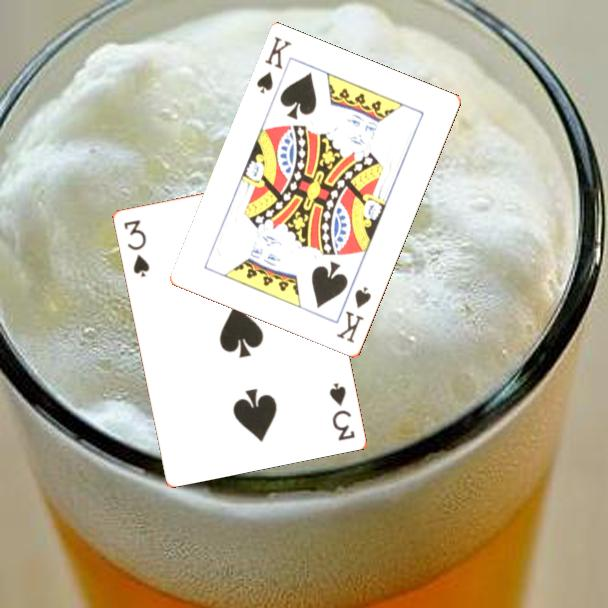s03: (325, 379, 357, 444), (120, 216, 152, 280)
s13: (253, 33, 295, 97), (333, 283, 374, 346)
